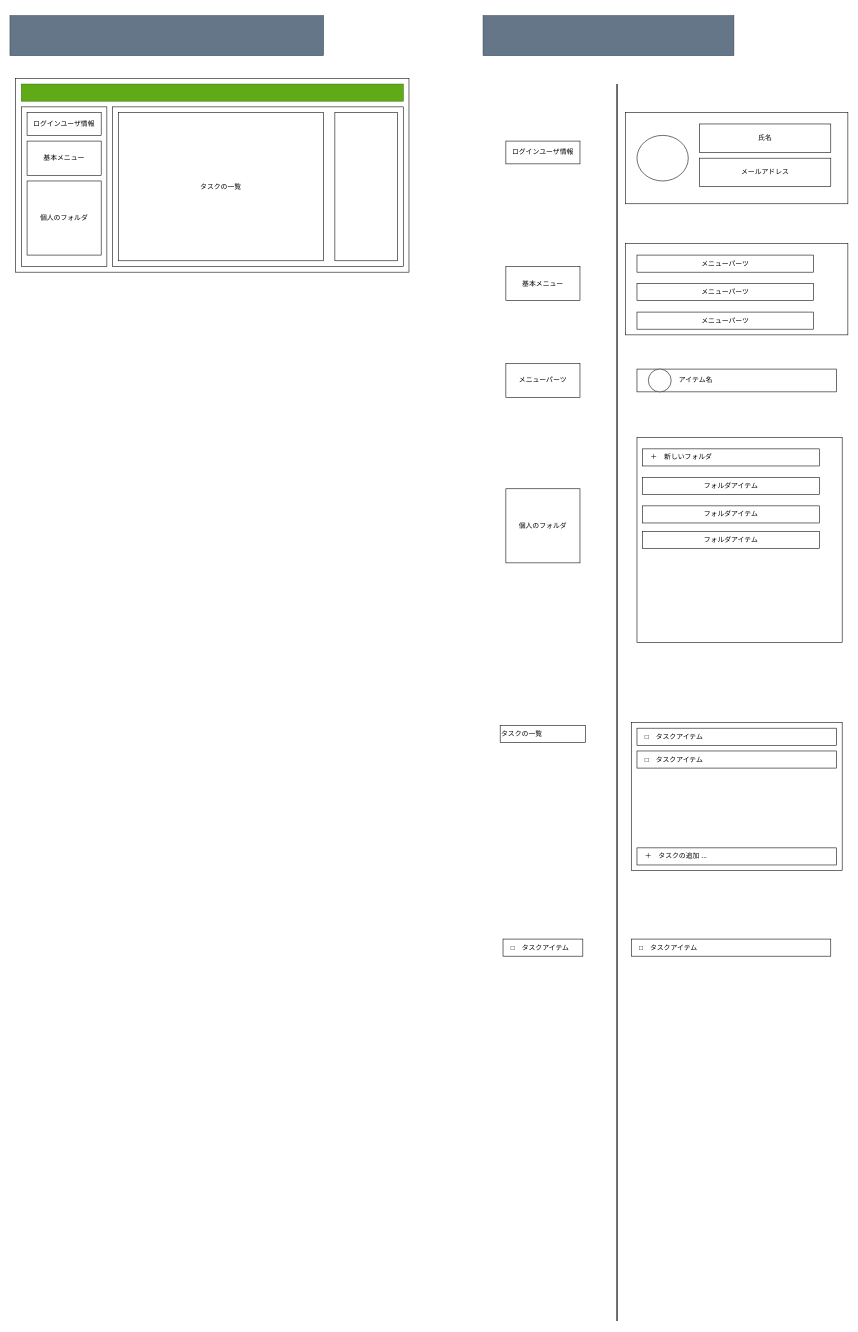
Some shapes in this 858 by 1332 pixel diagram are drawn without their labels. Here are the shapes that lost their labels. From the top down, the centre of each, then its label:
the point at 166,35: 基本画面レイアウト
the point at 608,35: コンポーネント
the point at 212,92: ヘッダー
the point at 662,158: アイコン
the point at 366,186: タスクの詳細
the point at 659,380: アイ コン
